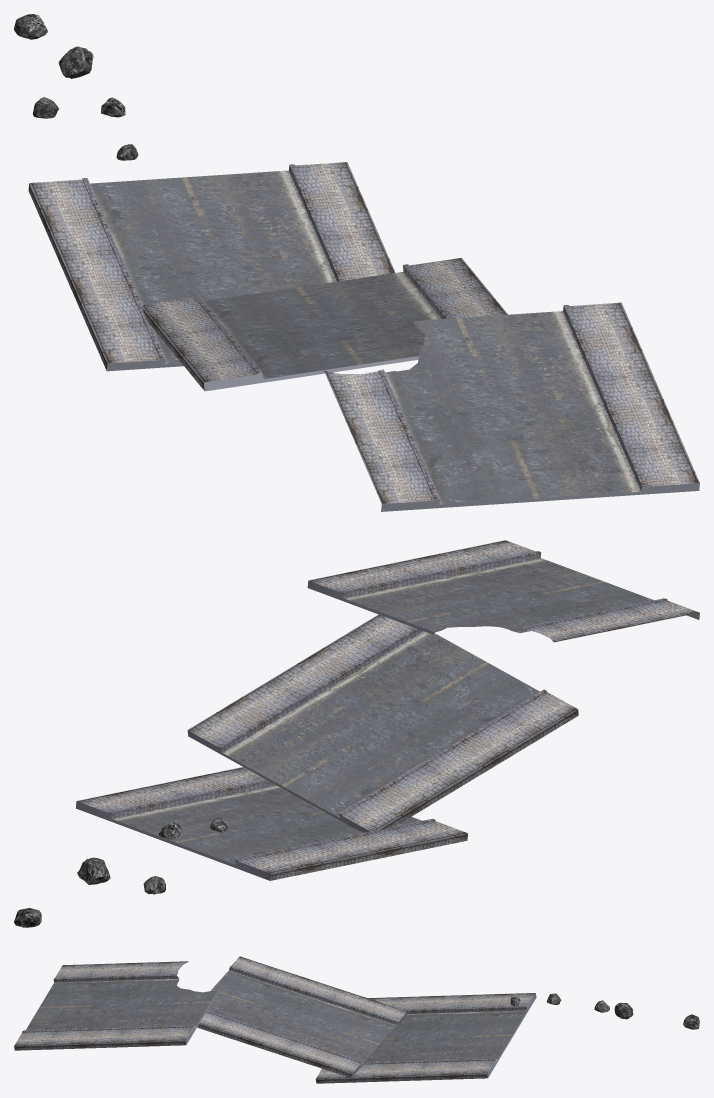
The model's file is road5.glb.
3 views of the same model, one above another, from view 1: azimuth 30°, elevation 25°; view 2: azimuth 150°, elevation 25°; view 3: azimuth 270°, elevation 25° (orthographic). The views are drawn at different scales.
Visible parts, largest first — view 1: Cube.008, Cube.001, Cube, Stone_02_Material #2_0; view 2: Cube, Cube.008, Cube.001, Stone_02_Material #2_0; view 3: Cube, Cube.008, Cube.001, Stone_02_Material #2_0.
Part boxes in pixels (x1,y1,x2,y2): Cube.008: (324,302,699,511); Cube.001: (28,162,395,371); Cube: (142,257,507,391); Stone_02_Material #2_0: (58,46,93,78); Cube: (187,614,578,832); Cube.008: (307,540,699,642); Cube.001: (75,767,467,880); Stone_02_Material #2_0: (77,857,110,884); Cube: (197,956,407,1077); Cube.008: (14,961,217,1050); Cube.001: (315,993,536,1083); Stone_02_Material #2_0: (614,1002,633,1019).
Bounding box in the file's own units: 3.88 × 1.21 × 11.38.
3 materials, 3 textured.
